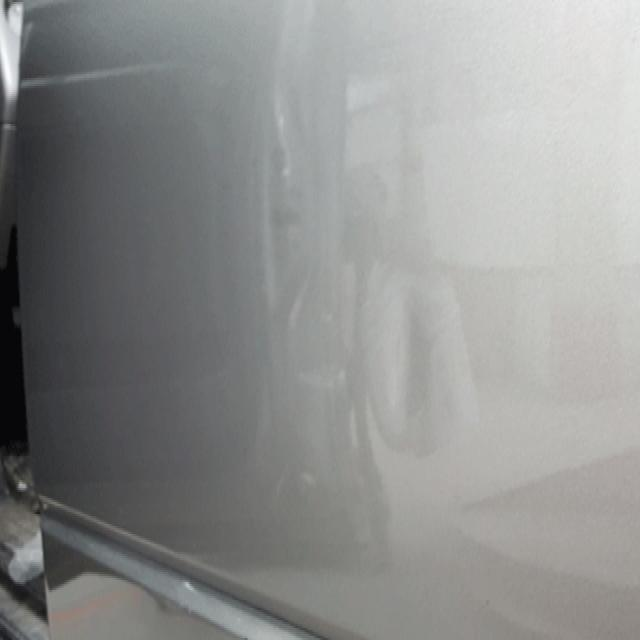dents: (379, 306, 455, 494)
